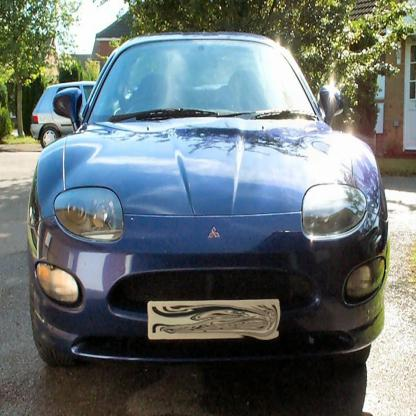Car: (27, 32, 390, 370), (31, 81, 96, 148)
